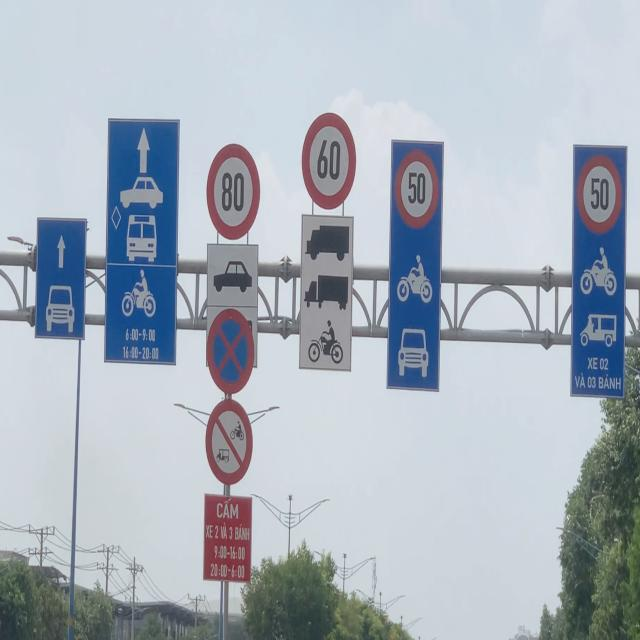Cam dung va do: (207, 308, 254, 394)
Toc do toi da: (301, 111, 357, 210), (206, 143, 261, 240), (577, 154, 623, 234), (395, 150, 439, 229)
